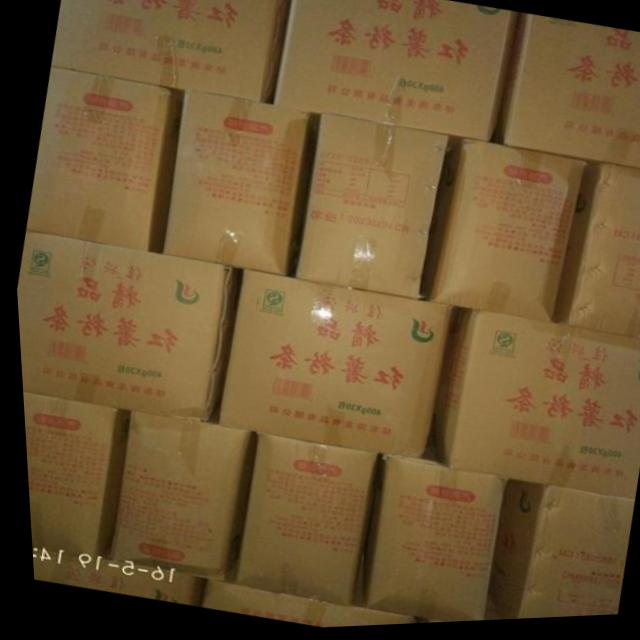box: (213, 271, 454, 462), (13, 228, 236, 423), (426, 311, 640, 504), (271, 0, 517, 148), (418, 141, 585, 327), (159, 91, 318, 279), (23, 65, 181, 252), (290, 117, 448, 302), (100, 394, 248, 584), (356, 442, 504, 626), (226, 433, 369, 608), (50, 0, 290, 104), (492, 16, 640, 175), (478, 484, 628, 624), (18, 391, 125, 558), (192, 553, 408, 630), (548, 167, 640, 345), (26, 548, 195, 608)
